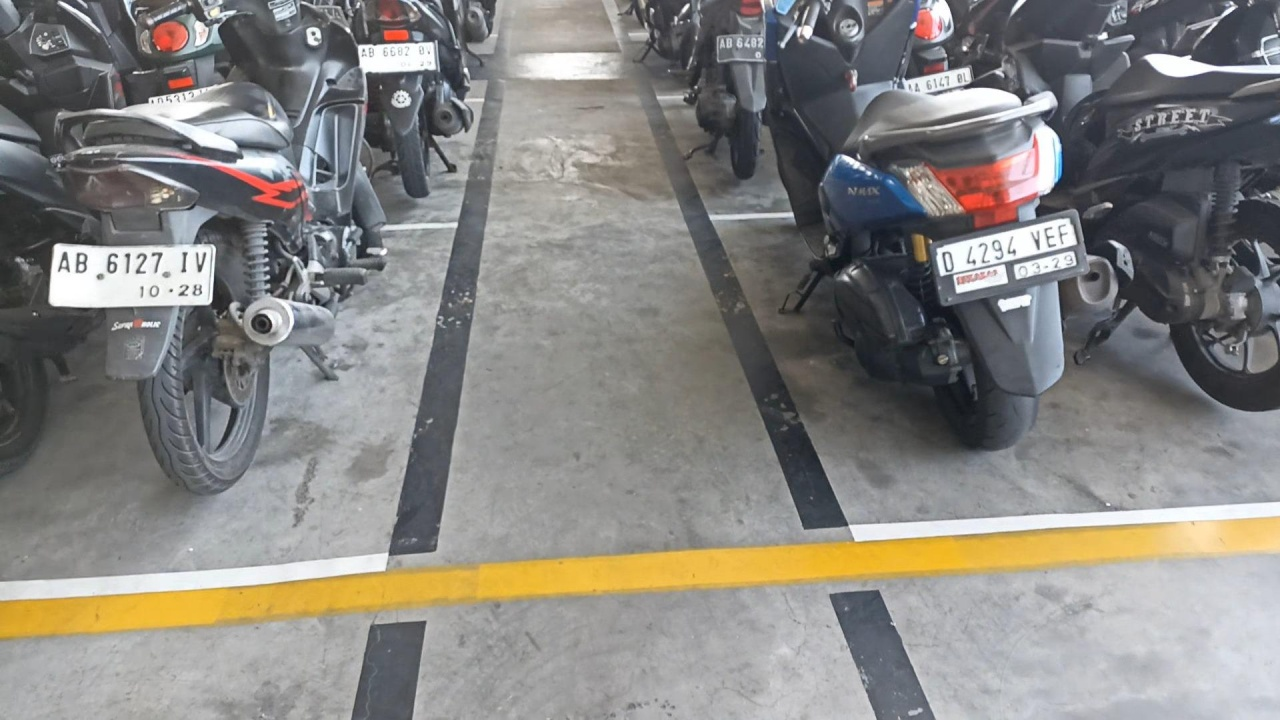plate: (935, 213, 1087, 301), (50, 243, 215, 308), (358, 40, 437, 74)
